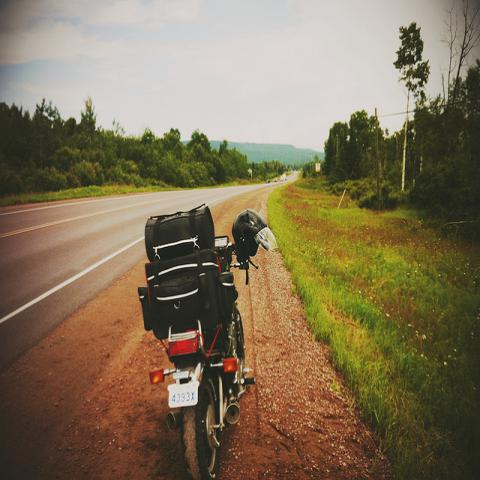car: (280, 176, 284, 182), (266, 179, 270, 183), (274, 180, 278, 182)
motorcycle: (150, 235, 260, 479)
